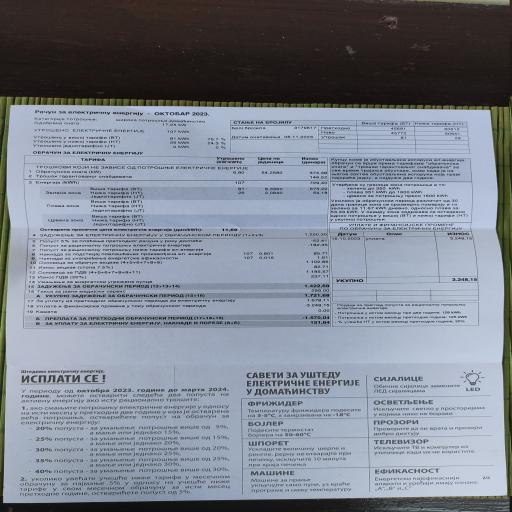racun_za_struju: (23, 150, 329, 238)
